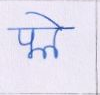o_matra: (47, 12, 65, 59)
